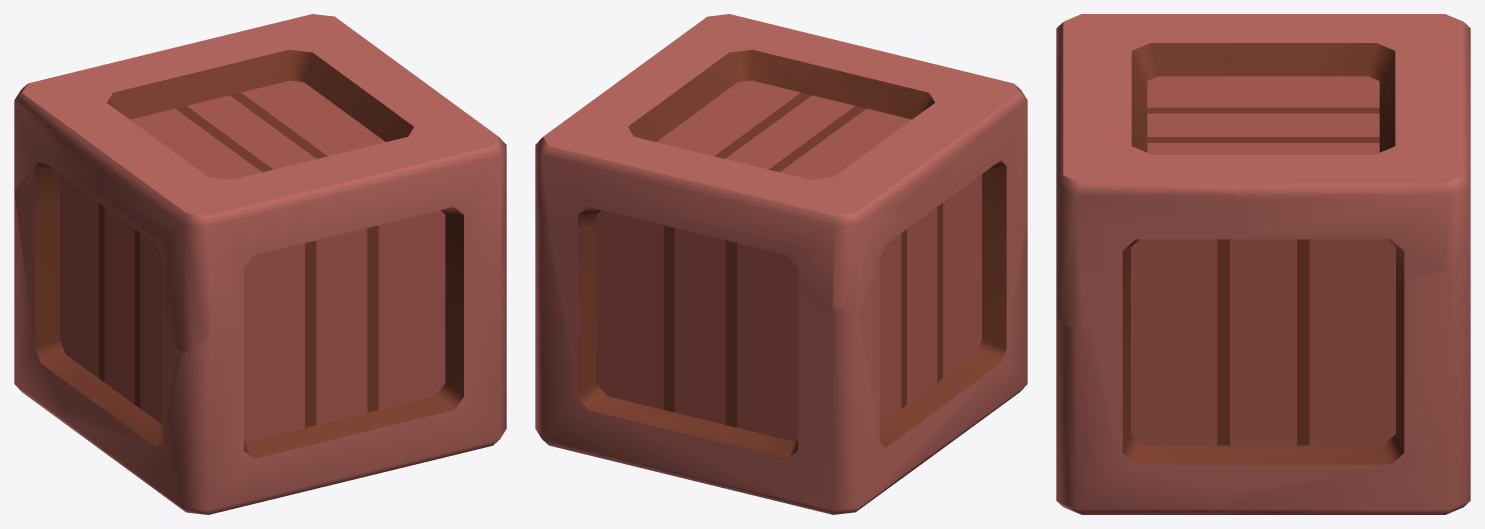
The model's file is crate1 break.fbx.
The picture shows the model from 3 angles, left to right: view 1: azimuth 30°, elevation 25°; view 2: azimuth 150°, elevation 25°; view 3: azimuth 270°, elevation 25°; orthographic projection. The views are drawn at different scales.
Parts seen in each view (by area): view 1: Crate_1_mesh_FRAC4, Crate_1_mesh_FRAC2, Crate_1_mesh_FRAC1, Crate_1_mesh_FRAC3; view 2: Crate_1_mesh_FRAC3, Crate_1_mesh_FRAC2, Crate_1_mesh_FRAC1, Crate_1_mesh_FRAC4; view 3: Crate_1_mesh_FRAC2, Crate_1_mesh_FRAC3, Crate_1_mesh_FRAC1, Crate_1_mesh_FRAC4.
Part boxes in pixels (x1,y1,x2,y2): Crate_1_mesh_FRAC4: [63, 244, 506, 514]; Crate_1_mesh_FRAC2: [57, 86, 506, 352]; Crate_1_mesh_FRAC1: [14, 14, 429, 243]; Crate_1_mesh_FRAC3: [14, 191, 89, 425]; Crate_1_mesh_FRAC3: [535, 215, 908, 514]; Crate_1_mesh_FRAC2: [639, 14, 1027, 294]; Crate_1_mesh_FRAC1: [535, 67, 906, 314]; Crate_1_mesh_FRAC4: [887, 229, 1027, 477]; Crate_1_mesh_FRAC2: [1056, 14, 1356, 330]; Crate_1_mesh_FRAC3: [1224, 264, 1470, 514]; Crate_1_mesh_FRAC1: [1233, 14, 1470, 280]; Crate_1_mesh_FRAC4: [1056, 281, 1243, 514].
Bounding box in the file's own units: 92.98 × 82.22 × 92.98.
Materials: 1 (1 with a texture image).
